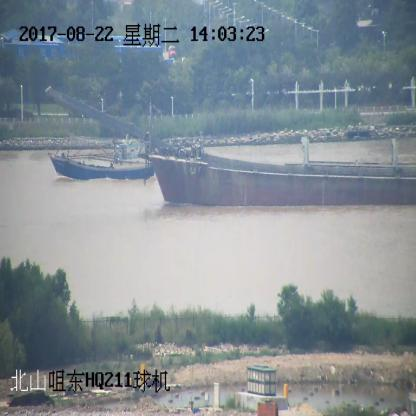Bulk Carrier: (47, 88, 416, 206)
